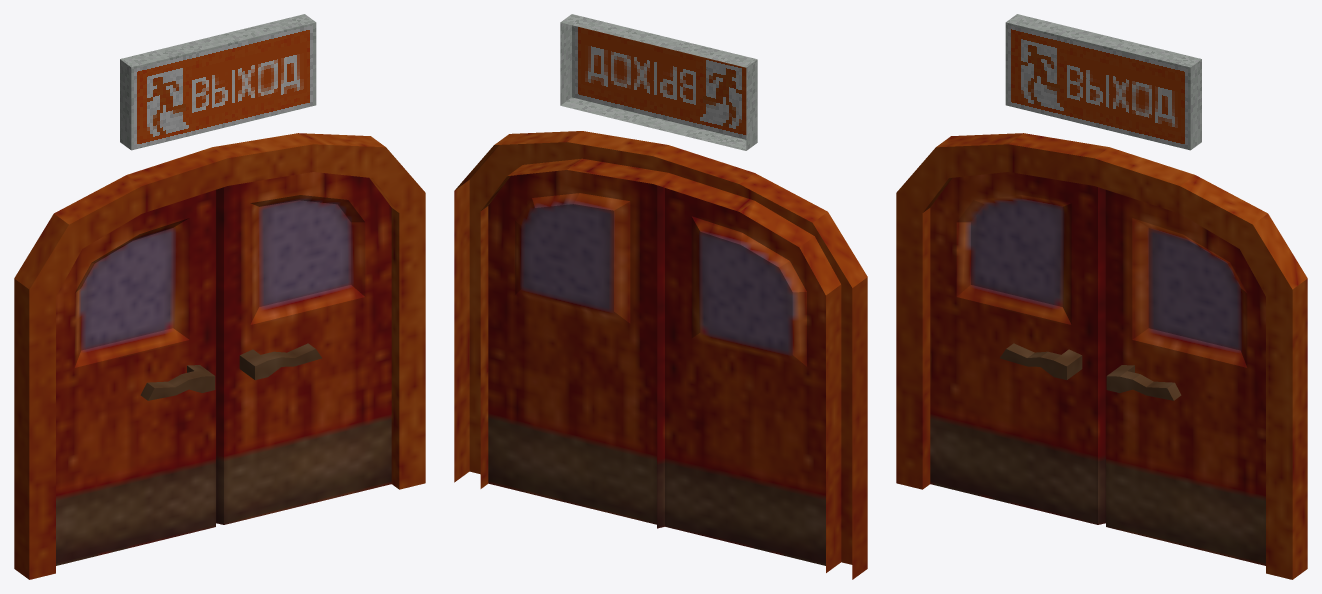
Rendered from exit.fbx.
3 renders of one model, left to right at view 1: azimuth 30°, elevation 25°; view 2: azimuth 150°, elevation 25°; view 3: azimuth 330°, elevation 25°, orthographic.
Parts seen in each view (by area): view 1: дверь, знак двери; view 2: дверь, знак двери; view 3: дверь, знак двери.
Part boxes in pixels (bbox=[...]): дверь: bbox=[14, 133, 425, 579]; знак двери: bbox=[120, 14, 316, 150]; дверь: bbox=[454, 131, 867, 579]; знак двери: bbox=[560, 14, 757, 150]; дверь: bbox=[896, 133, 1307, 579]; знак двери: bbox=[1005, 14, 1201, 150].
Bounding box in the file's own units: 30 × 35 × 3.
